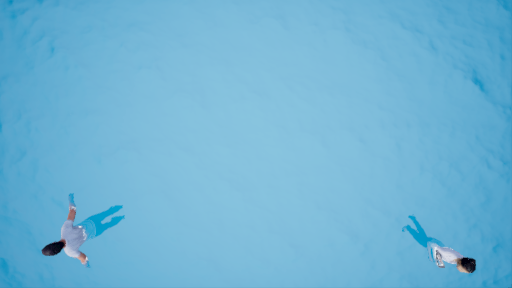person: (42, 185, 135, 272), (400, 212, 490, 282)
